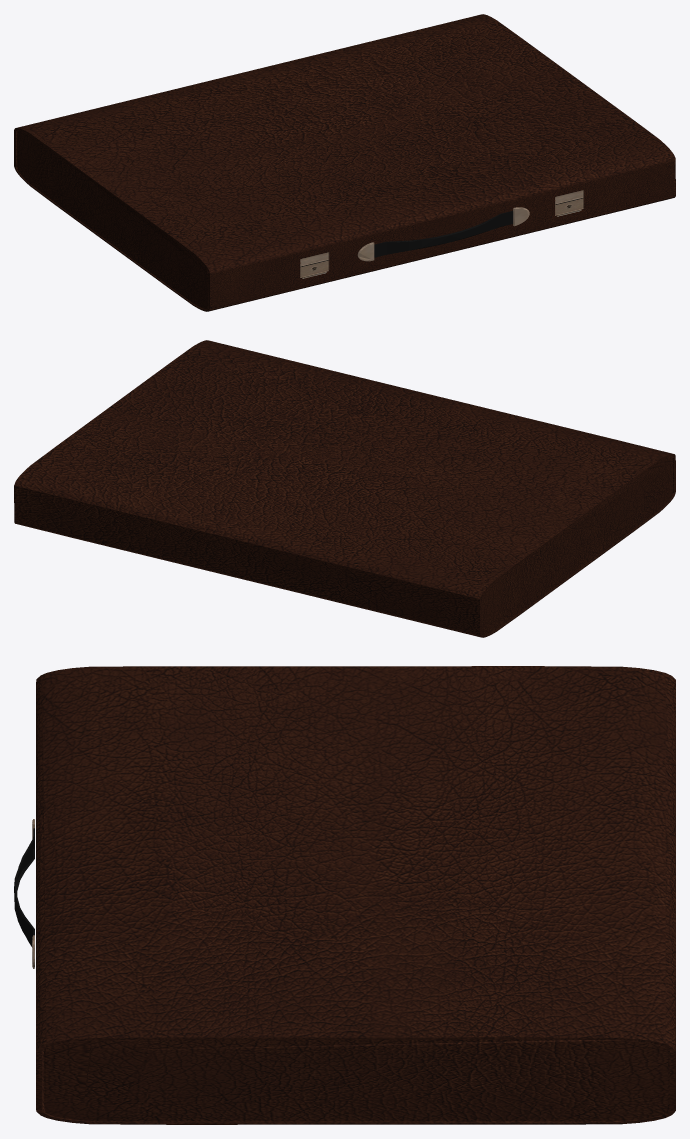
Rendered from Briefcase.FBX.
3 views of the same model, one above another, from view 1: azimuth 30°, elevation 25°; view 2: azimuth 150°, elevation 25°; view 3: azimuth 270°, elevation 25° (orthographic). The views are drawn at different scales.
Parts seen in each view (by area): view 1: Briefcase; view 2: Briefcase; view 3: Briefcase.
Part boxes in pixels (x1,y1,x2,y2): Briefcase: (14,14,675,311); Briefcase: (14,340,675,637); Briefcase: (14,666,675,1124).
Size of the model in its own units: 42.19 by 4.62 by 31.77.
1 material, 1 textured.
